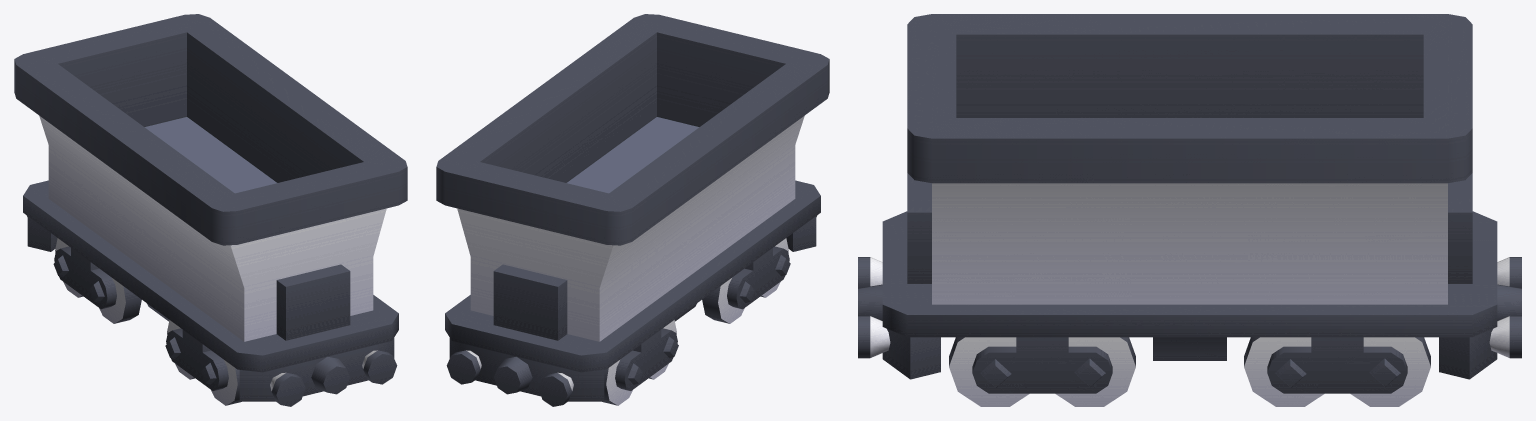
Rendered from train-carriage-box.glb.
3 renders of one model, left to right at view 1: azimuth 30°, elevation 25°; view 2: azimuth 150°, elevation 25°; view 3: azimuth 270°, elevation 25°, orthographic. The views are drawn at different scales.
Parts seen in each view (by area): view 1: train-carriage-box, wheels-back, wheels-front; view 2: train-carriage-box, wheels-front, wheels-back; view 3: train-carriage-box, wheels-back, wheels-front.
Boxes of the visible parts, x1,y1,x2,y2 form: train-carriage-box: [14, 14, 407, 406]; wheels-back: [53, 238, 141, 323]; wheels-front: [165, 320, 241, 405]; train-carriage-box: [436, 14, 829, 406]; wheels-front: [702, 238, 790, 323]; wheels-back: [602, 320, 678, 405]; train-carriage-box: [858, 14, 1521, 379]; wheels-back: [1244, 337, 1430, 406]; wheels-front: [949, 337, 1135, 406].
Bounding box in the file's own units: 1.2 × 1.3 × 2.7.
1 material, 1 textured.
